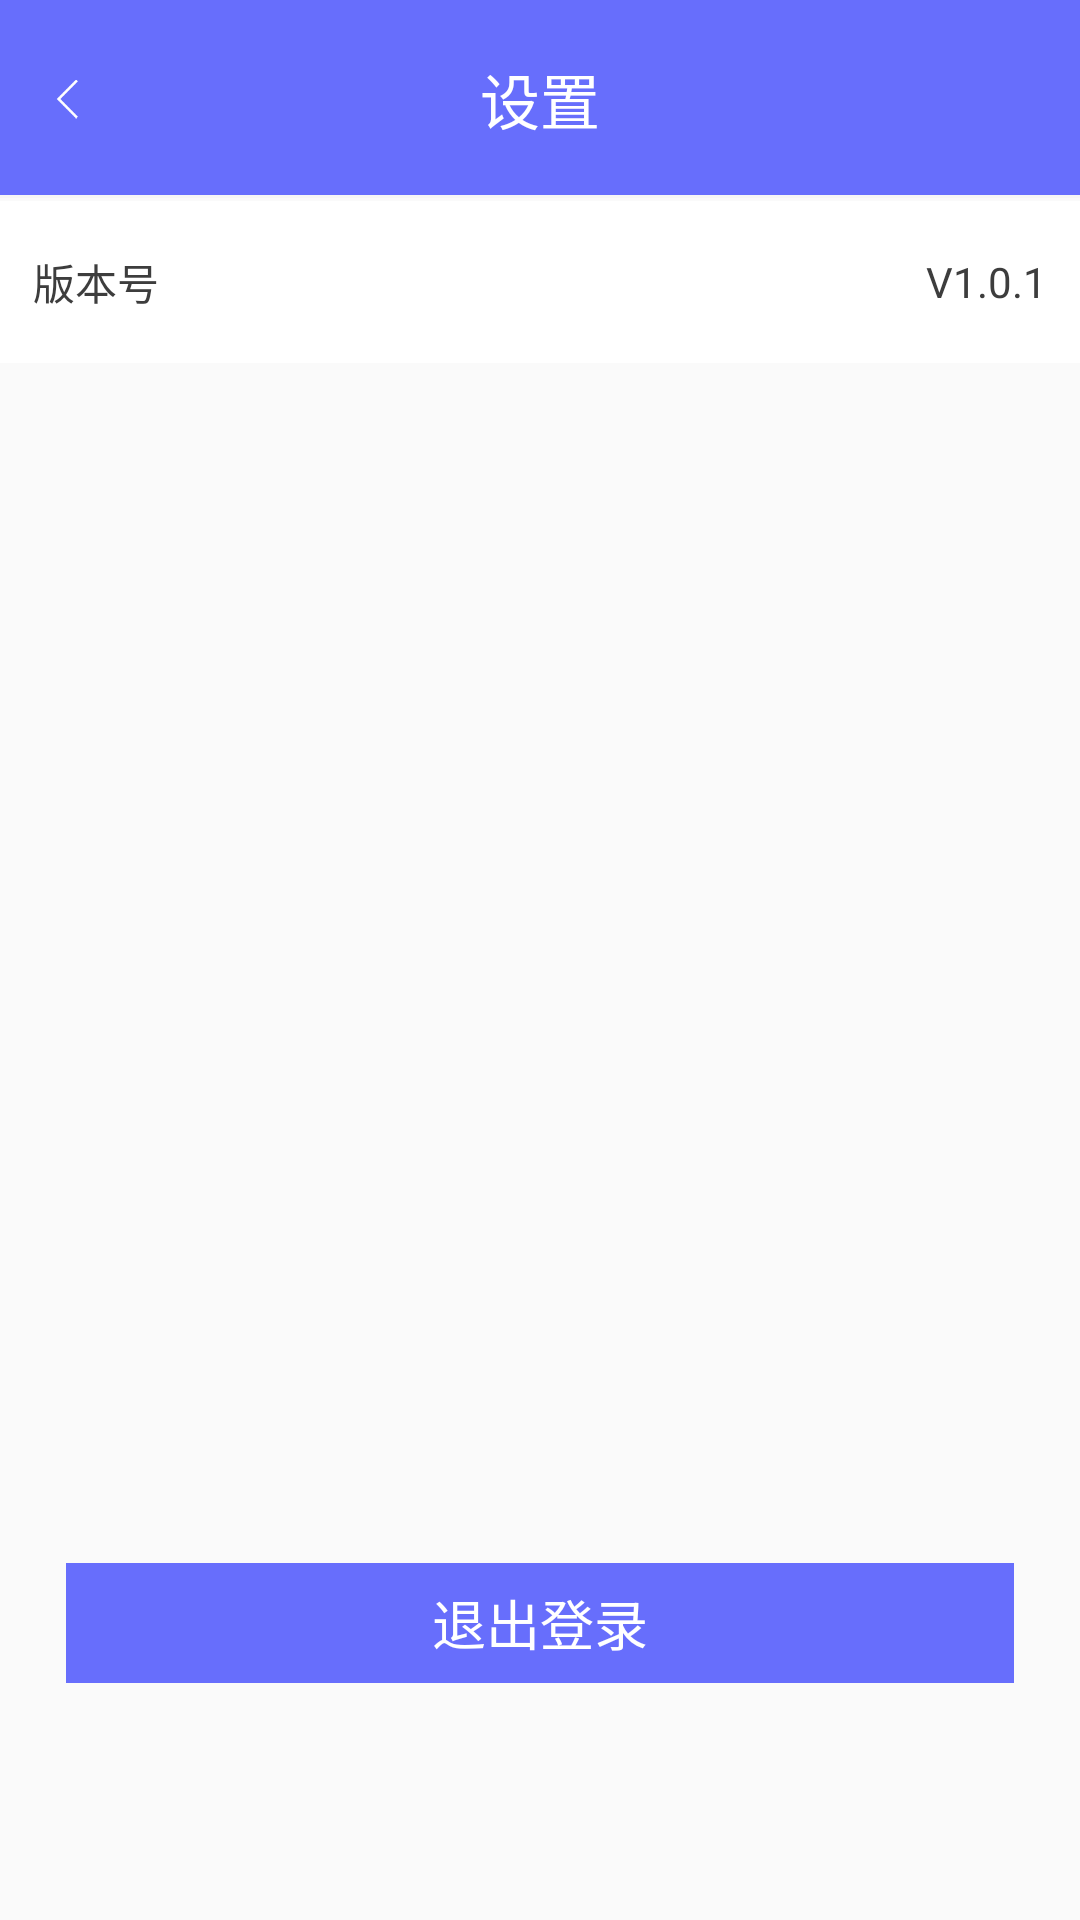

Where icons sit on this 1080*1920 app screen, as detection(x1, y1, x2, y2):
fanhui: detection(57, 80, 78, 119)
